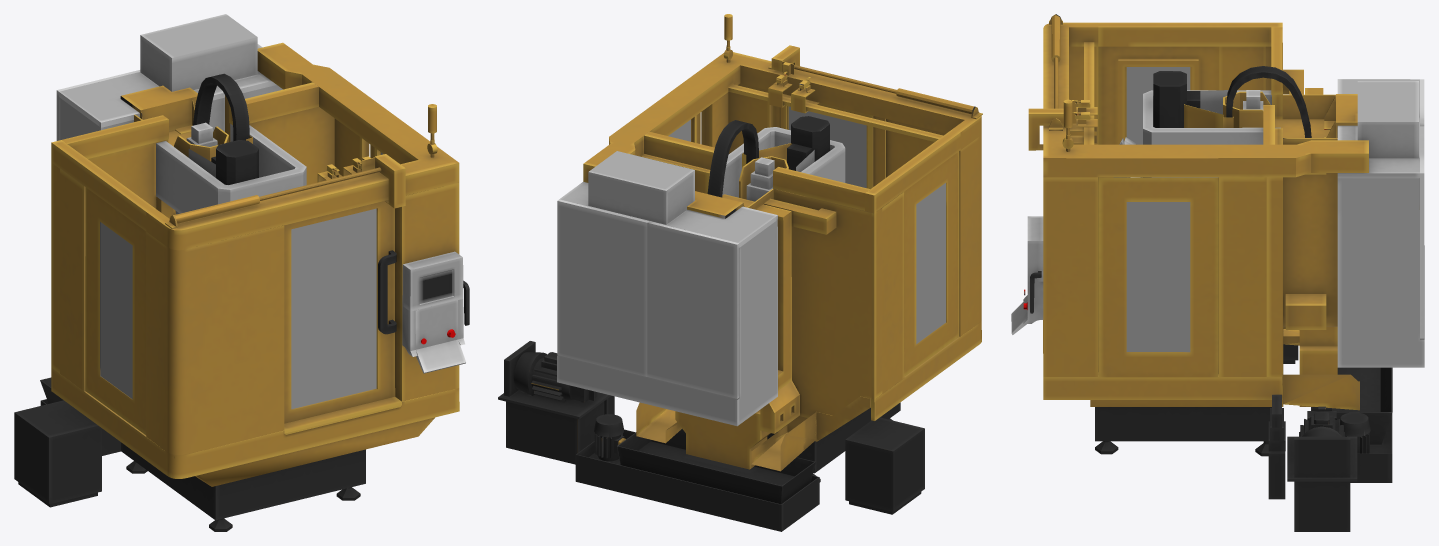
Rendered from Xichuang.fbx.
3 renders of one model, left to right at view 1: azimuth 30°, elevation 25°; view 2: azimuth 150°, elevation 25°; view 3: azimuth 270°, elevation 25°, orthographic. The views are drawn at different scales.
Parts seen in each view (by area): view 1: Xichuang; view 2: Xichuang; view 3: Xichuang.
Boxes of the visible parts, bbox=[...] form: Xichuang: bbox=[14, 14, 469, 531]; Xichuang: bbox=[498, 14, 982, 531]; Xichuang: bbox=[1011, 14, 1424, 531].
Bounding box in the file's own units: 630 × 586 × 572.
